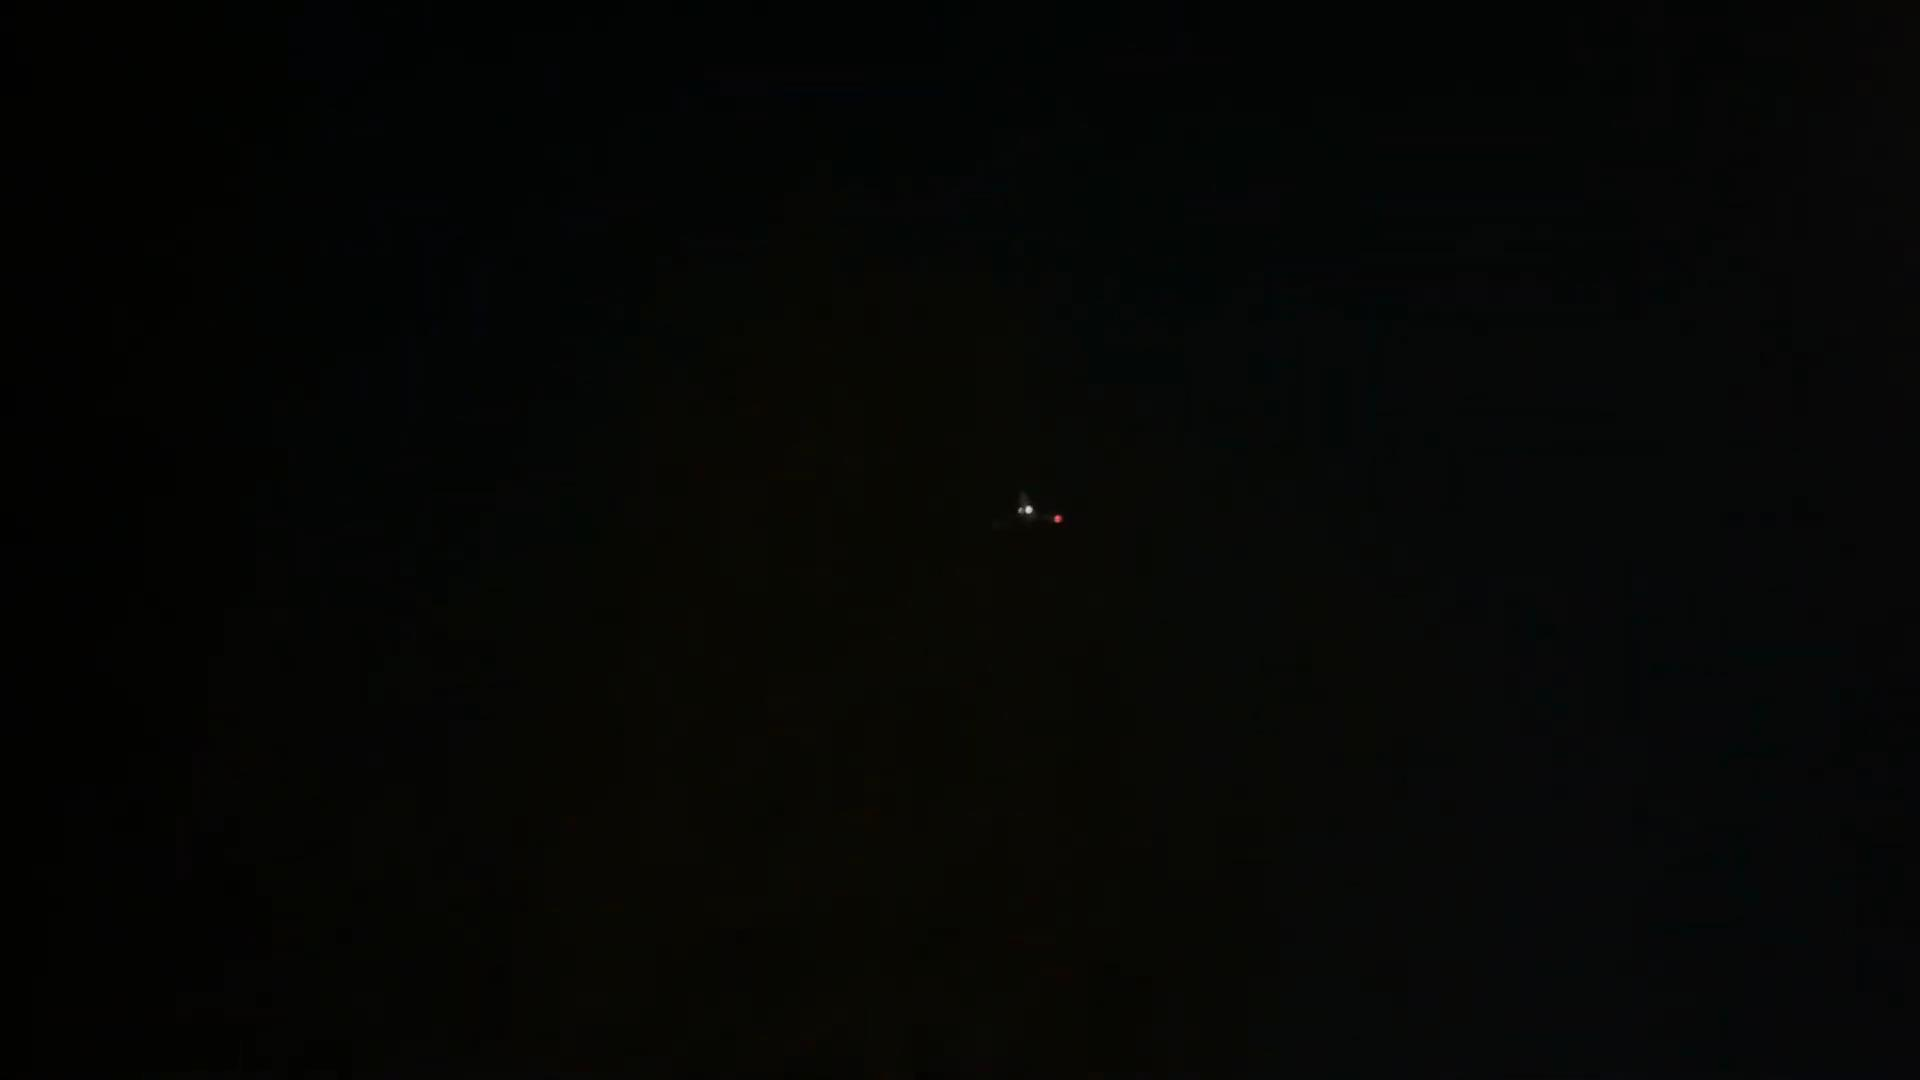Plane: (993, 475, 1080, 555)
